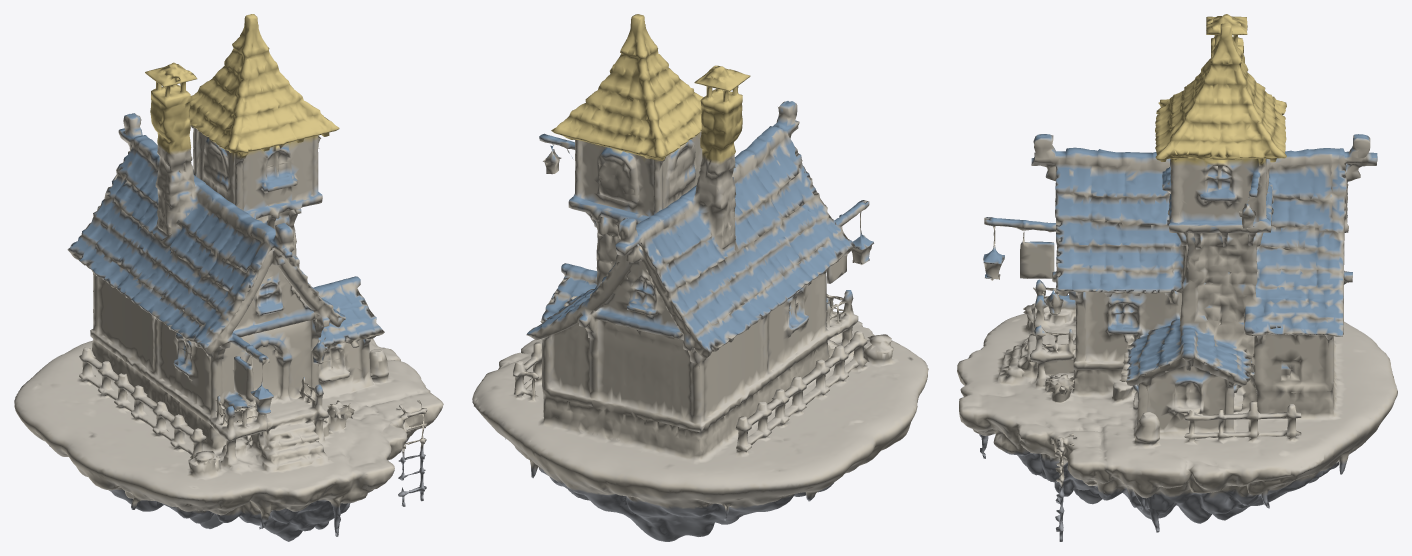
The model's file is main_hall_lod.glb.
3 views of the same model, side by side, from view 1: azimuth 30°, elevation 25°; view 2: azimuth 150°, elevation 25°; view 3: azimuth 270°, elevation 25° (orthographic). The views are drawn at different scales.
Visible parts, largest first — view 1: MainHall; view 2: MainHall; view 3: MainHall.
Boxes of the visible parts, x1=… form: MainHall: x1=14, y1=14, x2=443, y2=541; MainHall: x1=472, y1=14, x2=928, y2=541; MainHall: x1=957, y1=14, x2=1397, y2=541.
Bounding box in the file's own units: 1.46 × 1.9 × 1.53.
